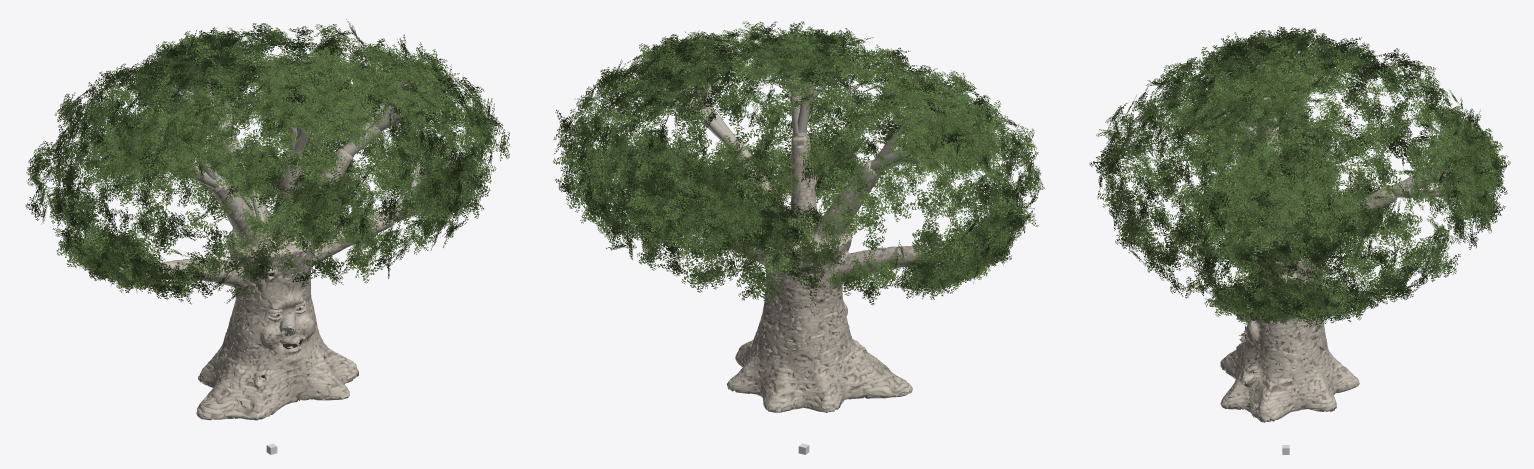
The model's file is Sprookjesboom.fbx.
The picture shows the model from 3 angles, left to right: view 1: azimuth 30°, elevation 25°; view 2: azimuth 150°, elevation 25°; view 3: azimuth 270°, elevation 25°; orthographic projection. The views are drawn at different scales.
Visible parts, largest first — view 1: leaf_0, PR_Sprookjesboom_Stam_baked_0, PR_Sprookjesboom_Stam_baked_1, PR_Sprookjesboom_Stam_baked_2, branch_0; view 2: leaf_0, PR_Sprookjesboom_Stam_baked_1, PR_Sprookjesboom_Stam_baked_0, PR_Sprookjesboom_Stam_baked_2, branch_0; view 3: leaf_0, PR_Sprookjesboom_Stam_baked_2, PR_Sprookjesboom_Stam_baked_1, PR_Sprookjesboom_Stam_baked_0, branch_0.
Boxes of the visible parts, x1,y1,x2,y2 form: leaf_0: [25, 19, 509, 304]; PR_Sprookjesboom_Stam_baked_0: [160, 148, 394, 420]; PR_Sprookjesboom_Stam_baked_1: [161, 134, 389, 420]; PR_Sprookjesboom_Stam_baked_2: [219, 136, 394, 400]; branch_0: [119, 61, 450, 283]; leaf_0: [553, 21, 1044, 305]; PR_Sprookjesboom_Stam_baked_1: [693, 142, 930, 412]; PR_Sprookjesboom_Stam_baked_0: [734, 135, 931, 412]; PR_Sprookjesboom_Stam_baked_2: [701, 135, 813, 410]; branch_0: [603, 47, 1012, 260]; leaf_0: [1089, 26, 1510, 328]; PR_Sprookjesboom_Stam_baked_2: [1221, 187, 1396, 422]; PR_Sprookjesboom_Stam_baked_1: [1220, 139, 1395, 413]; PR_Sprookjesboom_Stam_baked_0: [1220, 140, 1358, 422]; branch_0: [1213, 49, 1474, 320].
Size of the model in its own units: 14.08 by 11.69 by 11.78.
